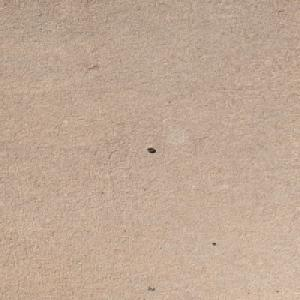Nut: (146, 146, 154, 151)
